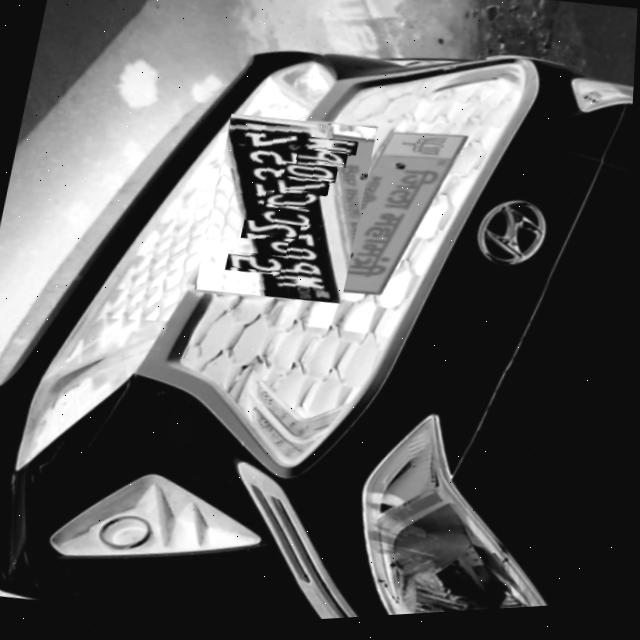0: (284, 164, 339, 188)
2: (243, 220, 303, 246)
3: (236, 237, 291, 262)
4: (211, 269, 276, 297)
5: (227, 252, 286, 279)
7: (275, 177, 331, 200)
C: (265, 191, 322, 216)
IND: (325, 129, 369, 149)
Indian_registered: (229, 126, 343, 308)
K: (254, 205, 313, 234)
M: (301, 137, 359, 162)
P: (296, 150, 348, 173)
